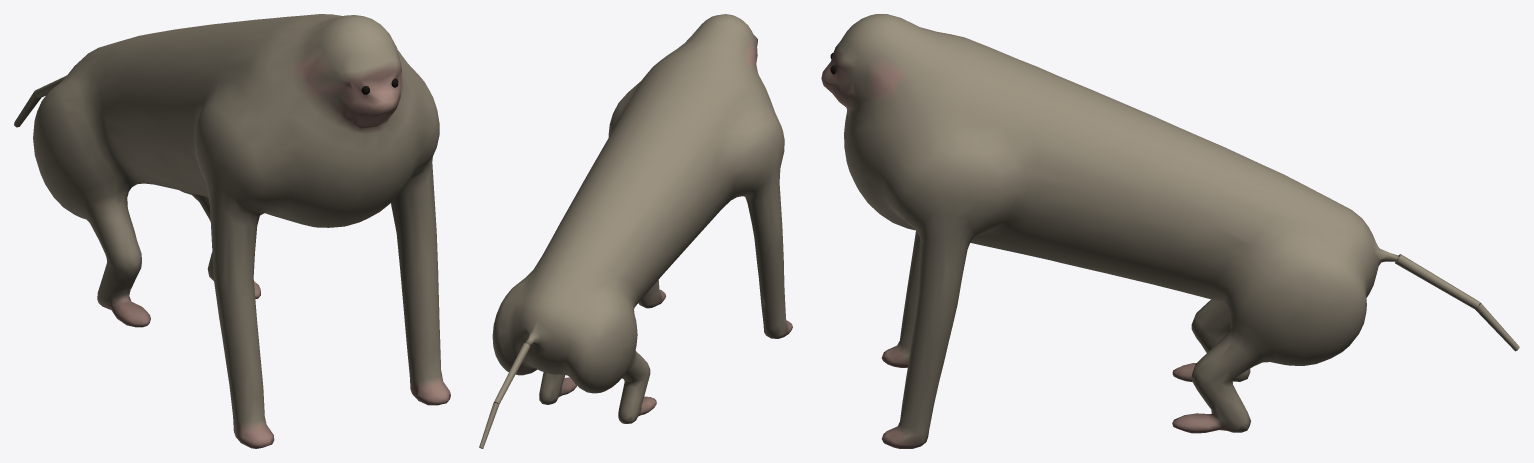
Rendered from makak.glb.
3 renders of one model, left to right at view 1: azimuth 30°, elevation 25°; view 2: azimuth 150°, elevation 25°; view 3: azimuth 270°, elevation 25°, orthographic. The views are drawn at different scales.
Parts seen in each view (by area): view 1: lack; view 2: lack; view 3: lack.
Boxes of the visible parts, x1=… form: lack: x1=14, y1=14, x2=450, y2=448; lack: x1=479, y1=14, x2=792, y2=448; lack: x1=821, y1=14, x2=1519, y2=448.
Bounding box in the file's own units: 0.2597 × 0.4705 × 0.7692.
